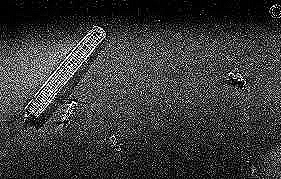ship: (23, 23, 107, 126)
